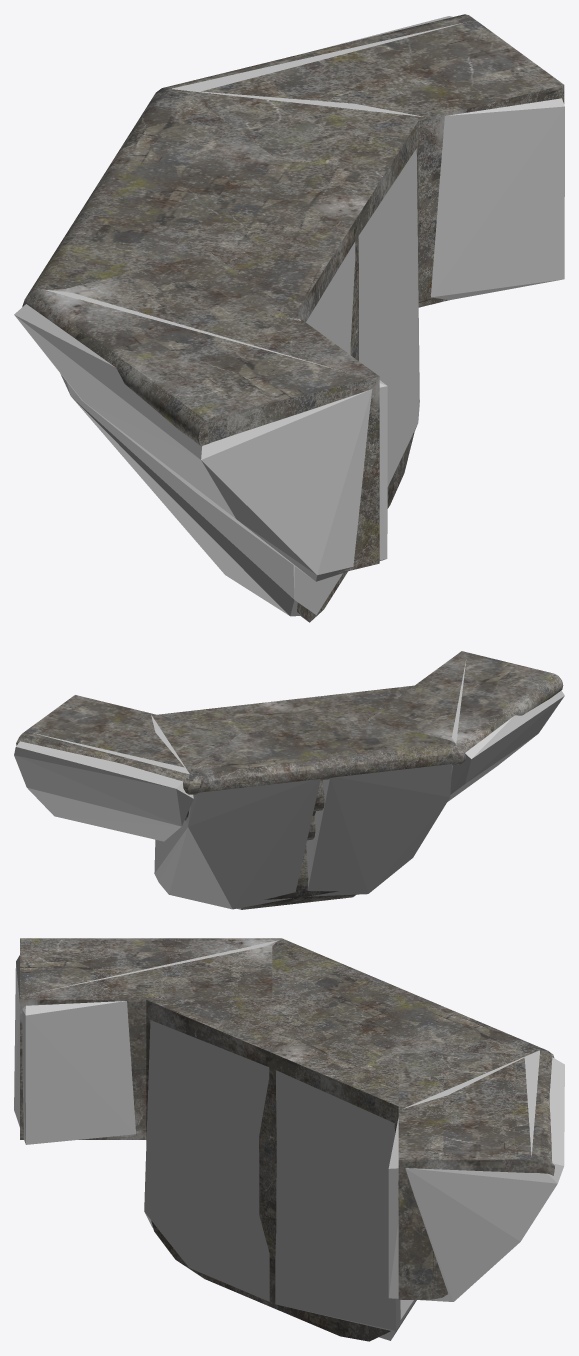
File: SM_CastleTower_Floor_Seam_A_04.fbx
The picture shows the model from 3 angles, top to bottom: view 1: azimuth 30°, elevation 25°; view 2: azimuth 150°, elevation 25°; view 3: azimuth 270°, elevation 25°; orthographic projection. The views are drawn at different scales.
Visible parts, largest first — view 1: SM_CastleTower_Floor_Seam_A_04, SM_CastleTower_Floor_Seam_A_04_ConvexHulls; view 2: SM_CastleTower_Floor_Seam_A_04_ConvexHulls, SM_CastleTower_Floor_Seam_A_04; view 3: SM_CastleTower_Floor_Seam_A_04_ConvexHulls, SM_CastleTower_Floor_Seam_A_04.
Boxes of the visible parts, x1,y1,x2,y2 form: SM_CastleTower_Floor_Seam_A_04: (22, 14, 564, 622); SM_CastleTower_Floor_Seam_A_04_ConvexHulls: (14, 16, 564, 616); SM_CastleTower_Floor_Seam_A_04_ConvexHulls: (14, 659, 564, 909); SM_CastleTower_Floor_Seam_A_04: (16, 651, 563, 909); SM_CastleTower_Floor_Seam_A_04_ConvexHulls: (14, 940, 564, 1340); SM_CastleTower_Floor_Seam_A_04: (20, 938, 554, 1341).
Size of the model in its own units: 435 by 437 by 223.
